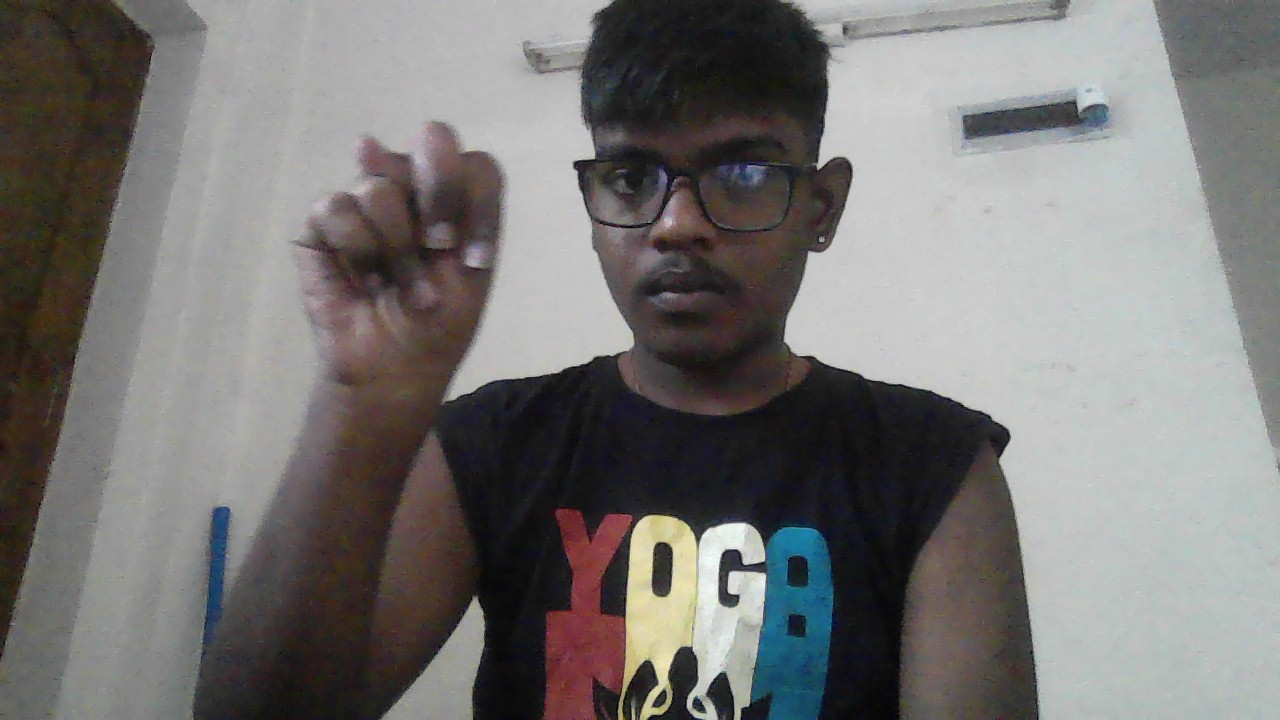N: (289, 120, 506, 386)
